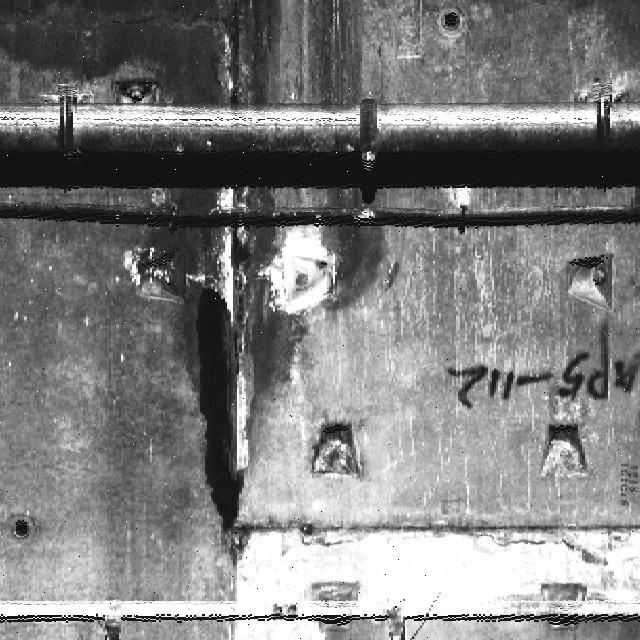leakage: (123, 188, 388, 538), (1, 1, 284, 119), (300, 1, 365, 110)
